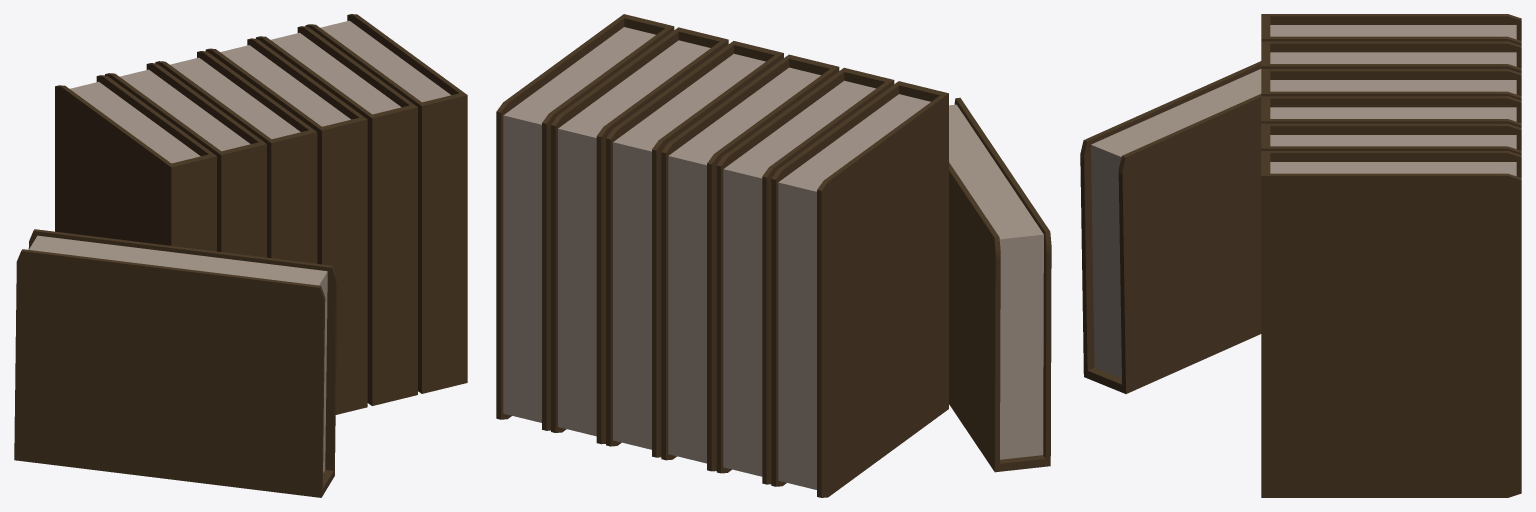
File: Books.fbx
The picture shows the model from 3 angles, left to right: view 1: azimuth 30°, elevation 25°; view 2: azimuth 150°, elevation 25°; view 3: azimuth 270°, elevation 25°; orthographic projection. The views are drawn at different scales.
Visible parts, largest first — view 1: pCube7, pCube4, pCube2, pCube3, pCube1, pCube5, pCube6; view 2: pCube4, pCube7, pCube1, pCube5, pCube6, pCube2, pCube3; view 3: pCube3, pCube7, pCube6, pCube1, pCube4, pCube5, pCube2.
Boxes of the visible parts, x1=… form: pCube7: x1=14, y1=229, x2=337, y2=497; pCube4: x1=55, y1=75, x2=216, y2=251; pCube2: x1=256, y1=26, x2=417, y2=405; pCube3: x1=305, y1=14, x2=467, y2=393; pCube1: x1=205, y1=38, x2=367, y2=414; pCube5: x1=155, y1=51, x2=317, y2=263; pCube6: x1=105, y1=63, x2=266, y2=257; pCube4: x1=771, y1=81, x2=948, y2=497; pCube7: x1=949, y1=97, x2=1051, y2=472; pCube1: x1=606, y1=41, x2=783, y2=457; pCube5: x1=661, y1=54, x2=839, y2=471; pCube6: x1=716, y1=67, x2=894, y2=484; pCube2: x1=551, y1=27, x2=728, y2=444; pCube3: x1=496, y1=14, x2=674, y2=430; pCube3: x1=1261, y1=151, x2=1521, y2=497; pCube7: x1=1080, y1=61, x2=1261, y2=393; pCube6: x1=1261, y1=41, x2=1521, y2=73; pCube1: x1=1261, y1=96, x2=1521, y2=127; pCube4: x1=1261, y1=14, x2=1521, y2=45; pCube5: x1=1261, y1=69, x2=1521, y2=100; pCube2: x1=1261, y1=123, x2=1521, y2=154.
Size of the model in its own units: 7.86 by 5.17 by 6.37.
